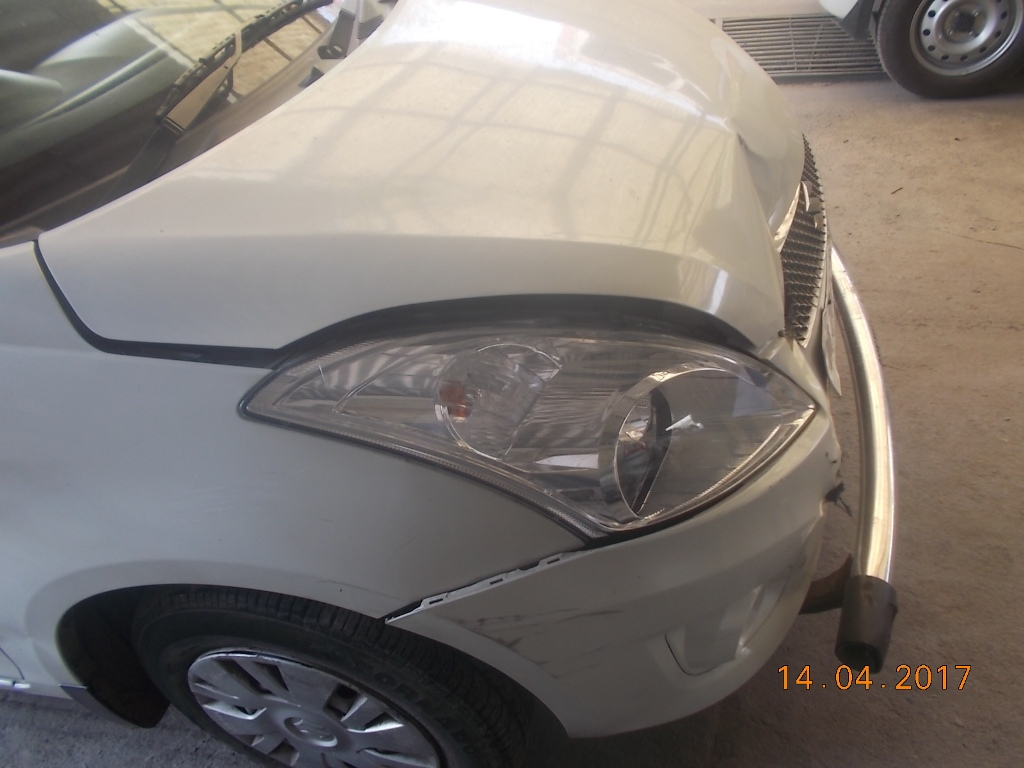Dent: (730, 120, 789, 235)
